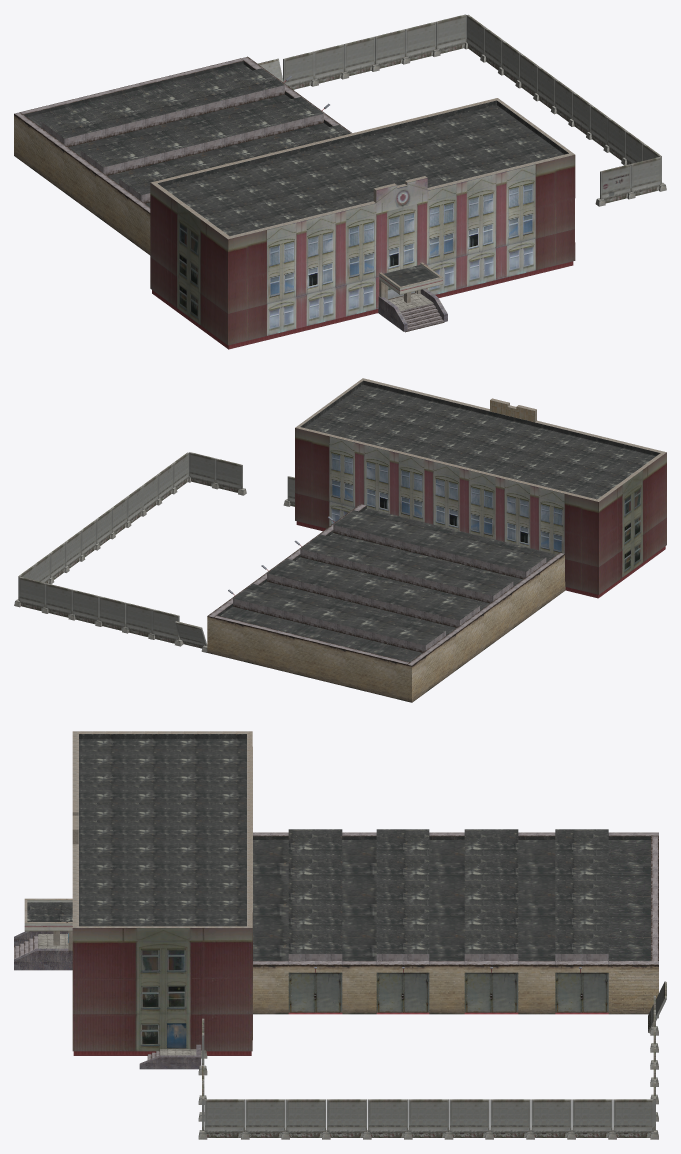
3 views of the same model, one above another, from view 1: azimuth 30°, elevation 25°; view 2: azimuth 150°, elevation 25°; view 3: azimuth 270°, elevation 25° (orthographic). The views are drawn at different scales.
Parts seen in each view (by area): view 1: medic_substamap1.012; view 2: medic_substamap1.012; view 3: medic_substamap1.012.
Boxes of the visible parts, x1=… form: medic_substamap1.012: x1=14, y1=14, x2=666, y2=349; medic_substamap1.012: x1=14, y1=378, x2=666, y2=702; medic_substamap1.012: x1=14, y1=731, x2=666, y2=1139.
Bounding box in the file's own units: 52.85 × 12.75 × 52.19.
20 materials, 20 textured.
